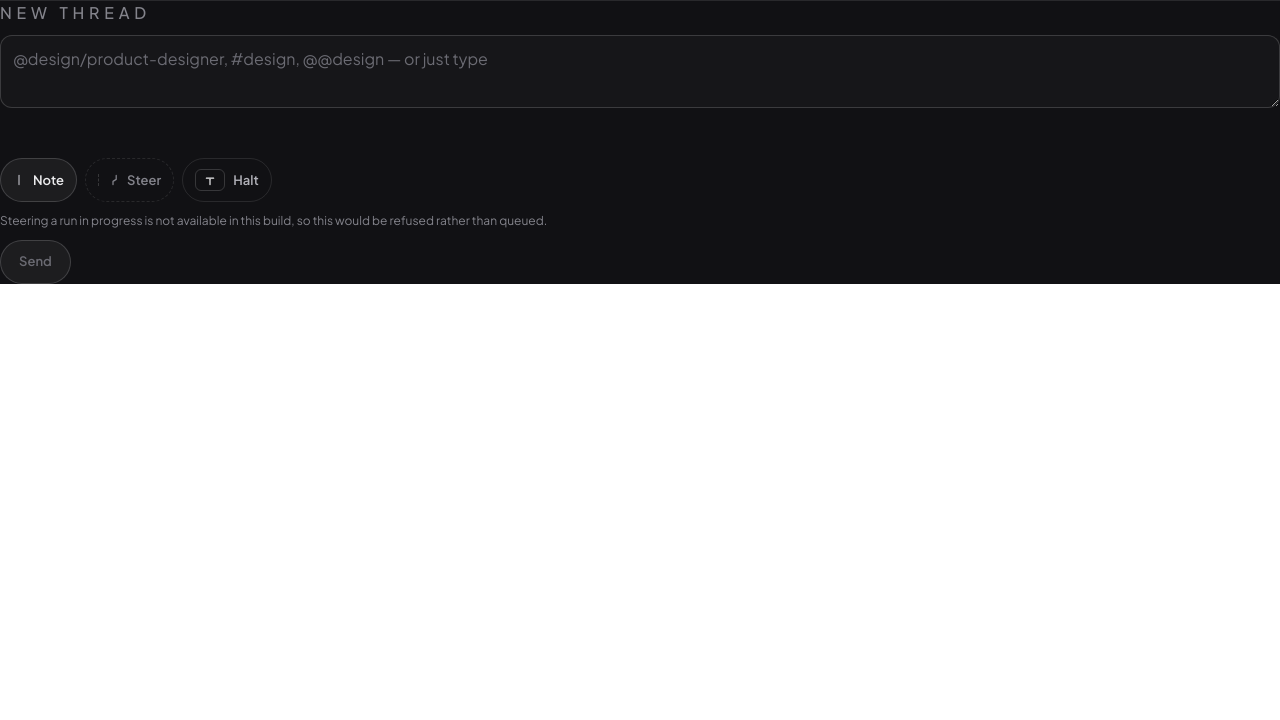
it: the fan-out confirm (BOARD · Plan §23.11 rule 7) › shows NO numeral when nobody counted the department
This screenshot has width=1280, height=720.
Type "@@sales ship it" into the text box at {"x": 640, "y": 72}, box left=0, top=35, right=1279, bottom=108
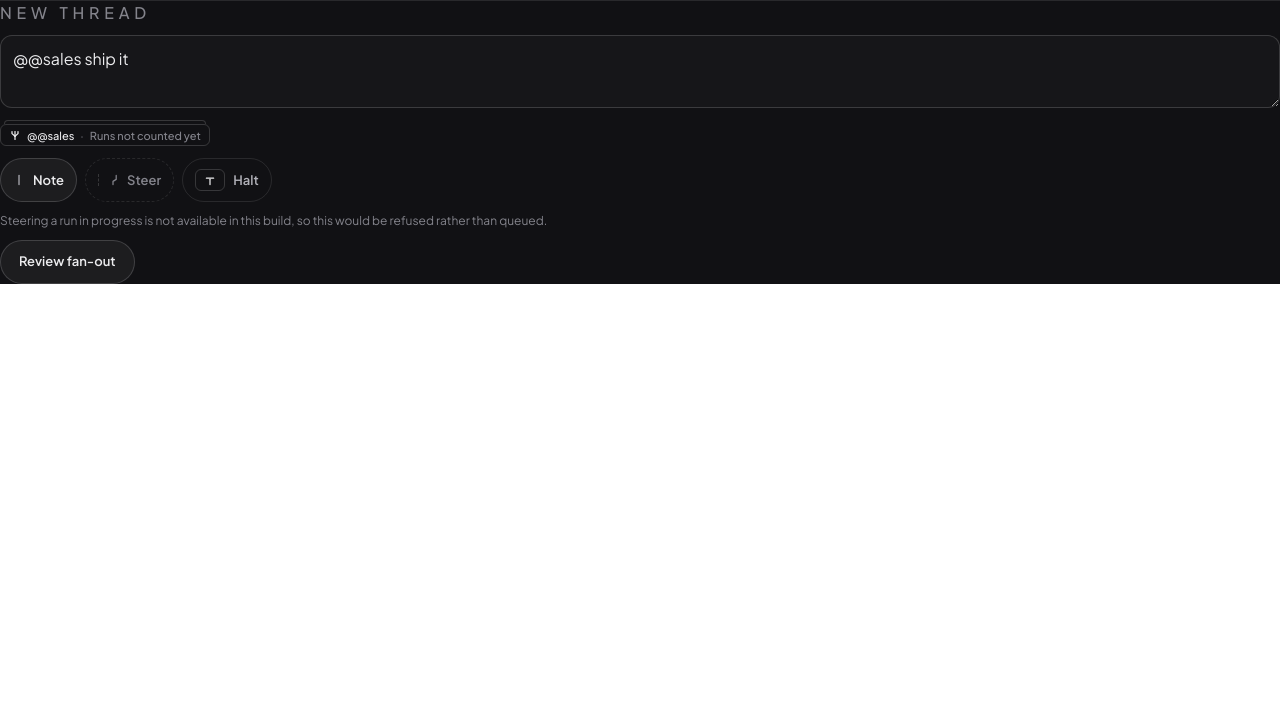
Submit the form, box left=0, top=0, right=1279, bottom=284
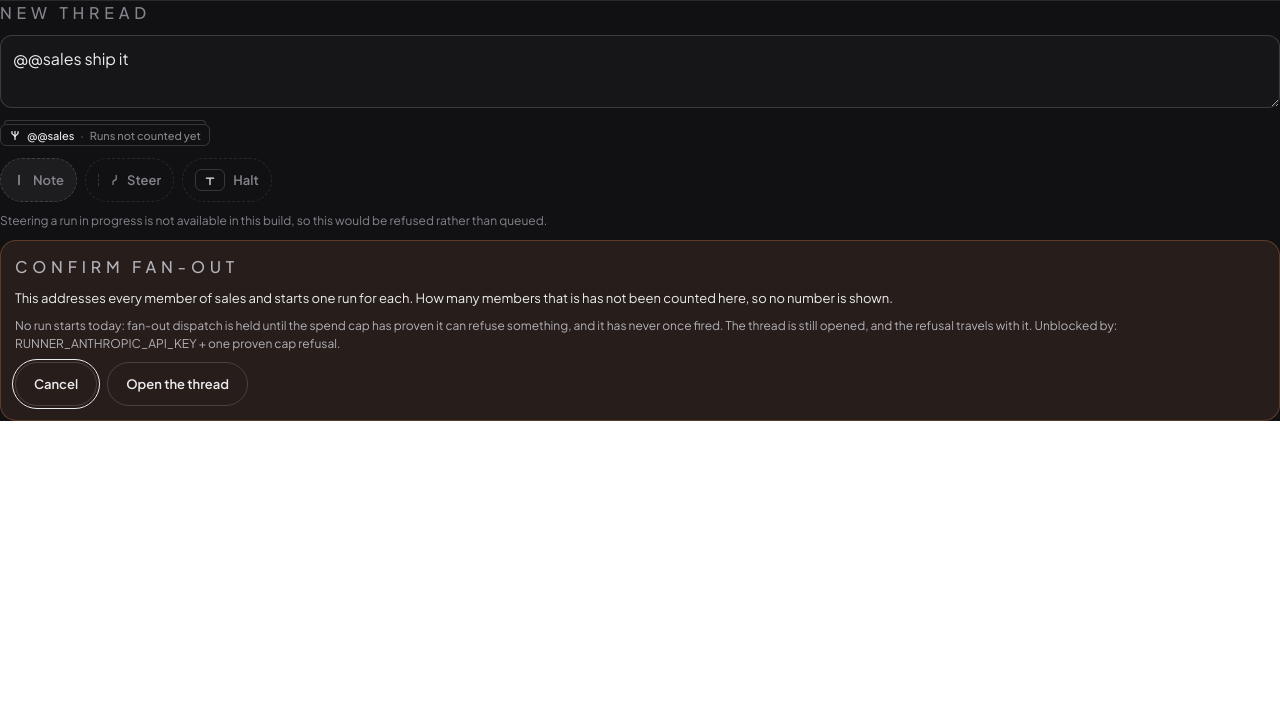
Now the dialog shows "not been counted", box left=15, top=290, right=893, bottom=306
